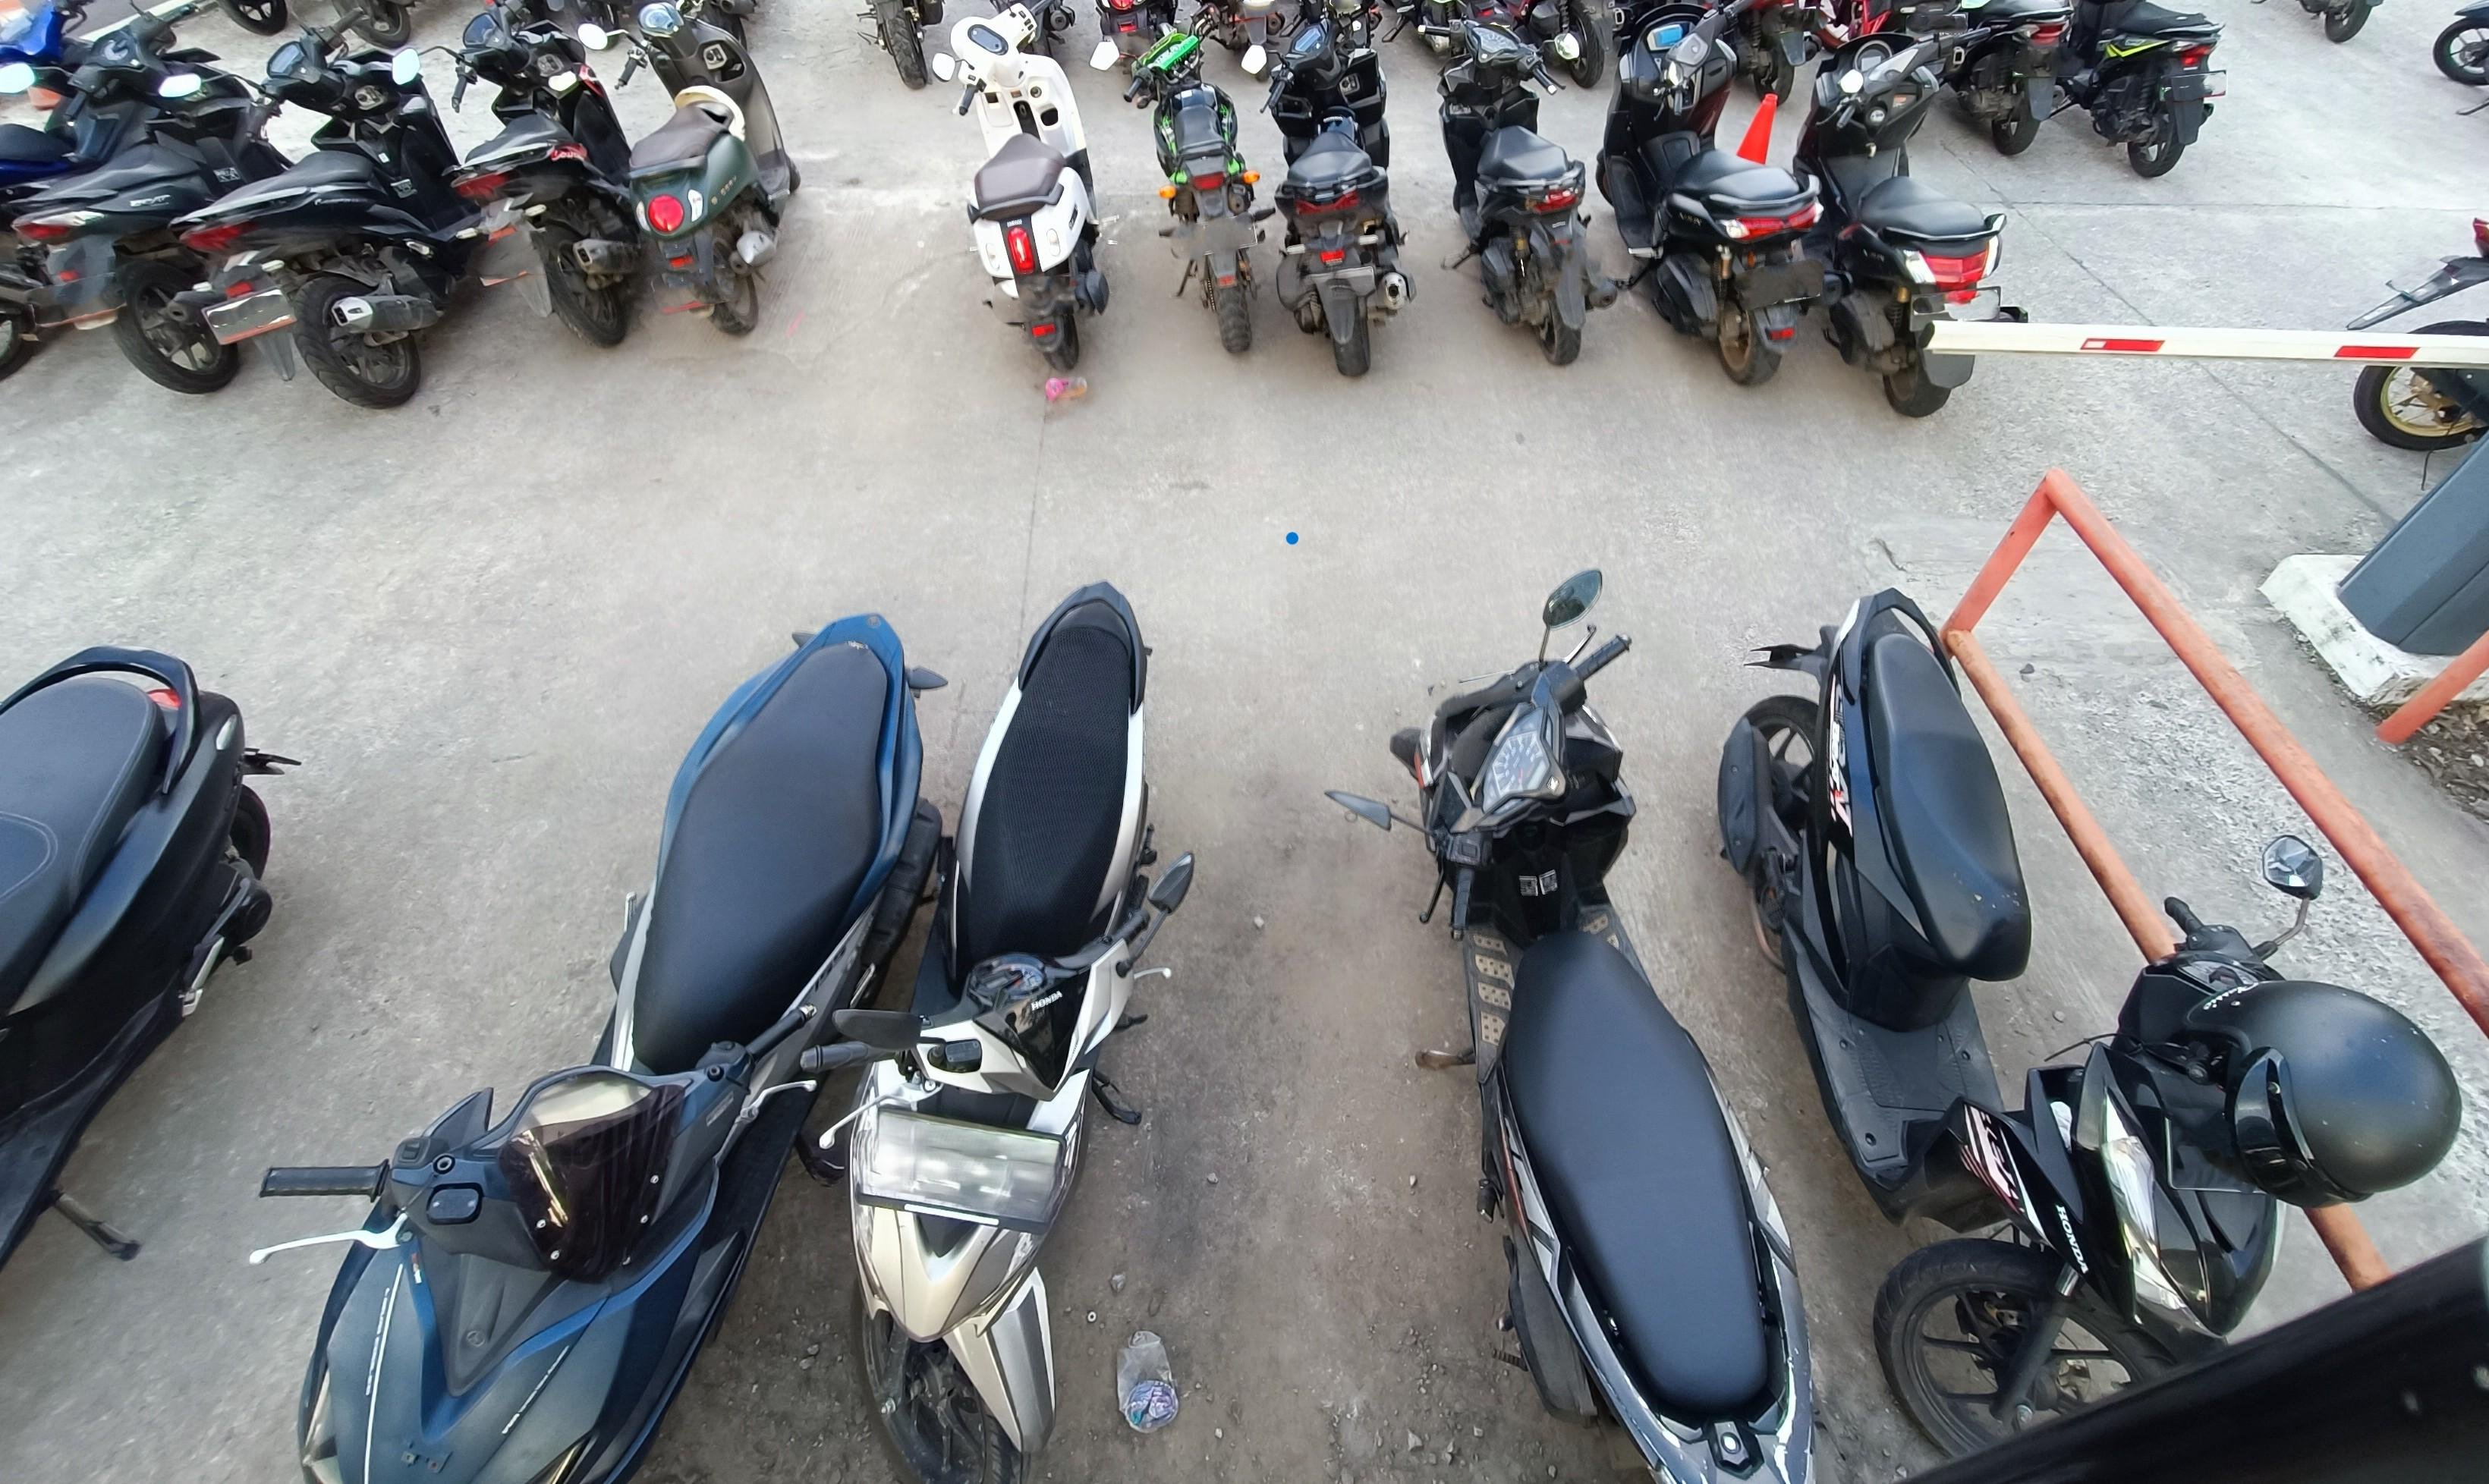motorcycle: (1715, 585, 2461, 1461), (263, 611, 950, 1484), (1323, 567, 1837, 1484), (809, 581, 1212, 1484), (0, 641, 297, 1279), (161, 0, 479, 413), (0, 0, 306, 392), (1786, 0, 2031, 419), (1597, 0, 1825, 387), (392, 0, 639, 353), (579, 0, 804, 341), (1420, 0, 1618, 367), (926, 2, 1109, 380), (1093, 0, 1279, 357), (1244, 0, 1420, 375), (0, 0, 159, 385), (2319, 203, 2489, 451), (2072, 2, 2231, 186), (1957, 0, 2081, 159), (1380, 0, 1532, 76), (1717, 0, 1821, 108), (837, 0, 957, 92), (1516, 0, 1632, 94), (1196, 0, 1293, 79), (2252, 0, 2394, 53), (1081, 0, 1184, 71), (2434, 0, 2489, 122), (327, 0, 422, 48), (203, 2, 306, 39)
